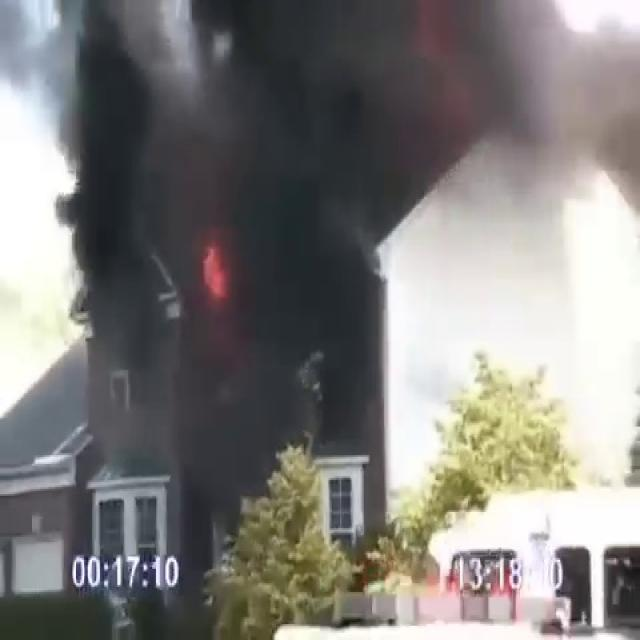Smoke: (18, 1, 636, 534)
